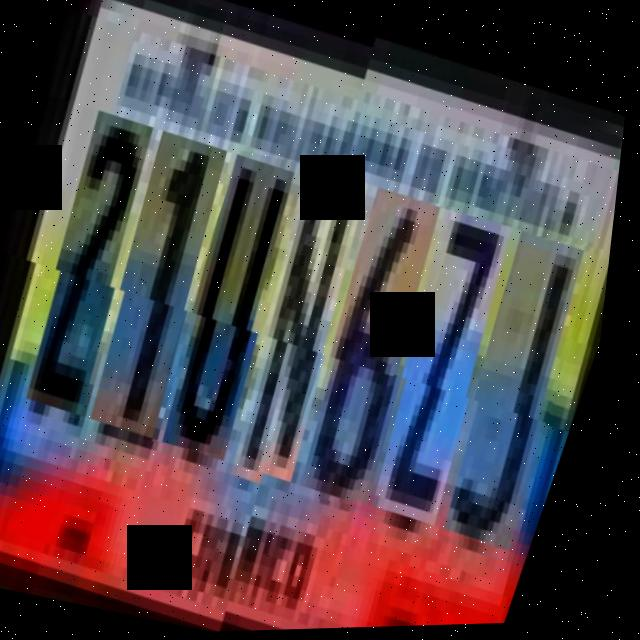1: (77, 128, 252, 437)
2: (12, 109, 177, 413)
6: (288, 192, 468, 511)
J: (434, 235, 613, 554)
N: (219, 172, 392, 489)
U: (152, 150, 323, 458)
Z: (359, 213, 538, 532)
